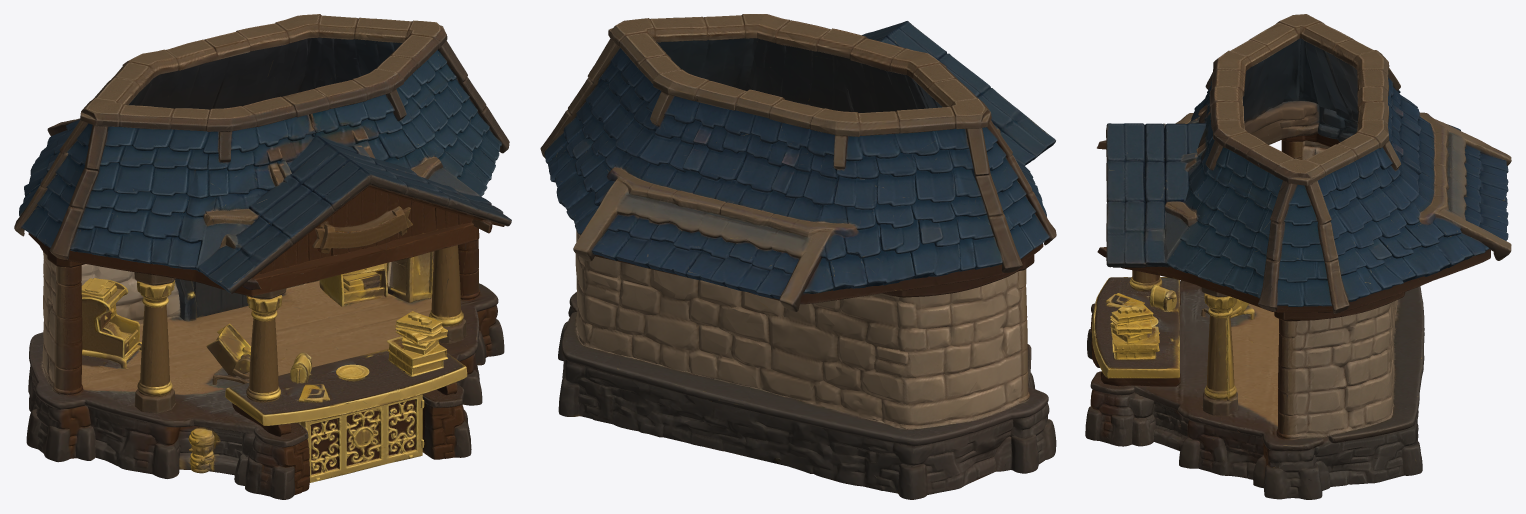
File: Bank_A.glb
The picture shows the model from 3 angles, left to right: view 1: azimuth 30°, elevation 25°; view 2: azimuth 150°, elevation 25°; view 3: azimuth 270°, elevation 25°; orthographic projection. The views are drawn at different scales.
Bounding box in the file's own units: 1.9 × 1.29 × 1.63.
Materials: 1 (1 with a texture image).
